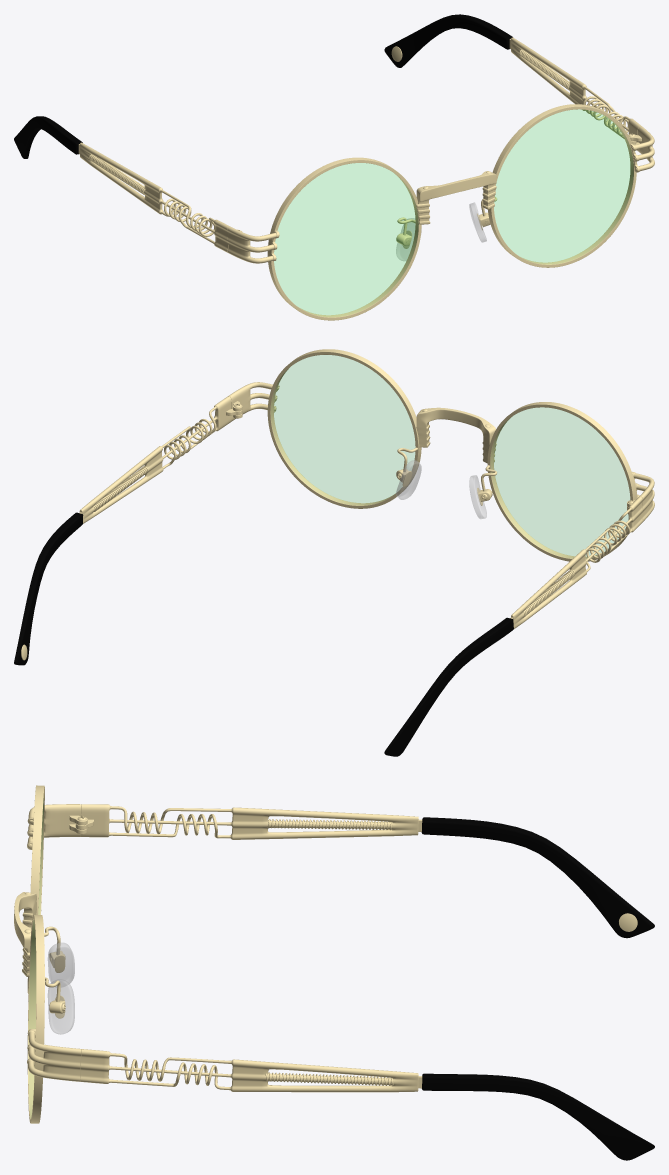
The model's file is glasses_08.glb.
The picture shows the model from 3 angles, top to bottom: view 1: azimuth 30°, elevation 25°; view 2: azimuth 150°, elevation 25°; view 3: azimuth 270°, elevation 25°; orthographic projection. The views are drawn at different scales.
Parts seen in each view (by area): view 1: Object_2, Object_9, Object_7, Object_3, Object_8, Object_5, Object_10, Object_4, Object_6; view 2: Object_2, Object_7, Object_9, Object_3, Object_5, Object_8, Object_4, Object_10; view 3: Object_7, Object_3, Object_9, Object_8, Object_4, Object_10, Object_5, Object_12, Object_6.
Part boxes in pixels (x1,y1,x2,y2): Object_2: (274,110,630,314); Object_9: (267,104,636,320); Object_7: (79,37,640,252); Object_3: (14,14,512,158); Object_8: (227,126,654,263); Object_5: (416,171,496,224); Object_10: (89,49,569,194); Object_4: (396,202,486,260); Object_6: (396,147,637,245); Object_2: (274,355,629,556); Object_7: (79,396,643,628); Object_9: (267,349,636,561); Object_3: (14,512,513,756); Object_5: (416,407,496,463); Object_8: (228,382,654,521); Object_4: (396,460,486,519); Object_10: (93,466,574,617); Object_7: (80,804,418,1092); Object_3: (421,817,654,1160); Object_9: (27,785,44,1123); Object_8: (27,804,81,1081); Object_4: (47,942,74,1034); Object_10: (265,819,393,1085); Object_5: (14,892,36,976); Object_12: (50,816,637,1088); Object_6: (24,820,65,1013).
Bounding box in the file's own units: 7.04 × 2.38 × 7.31.
